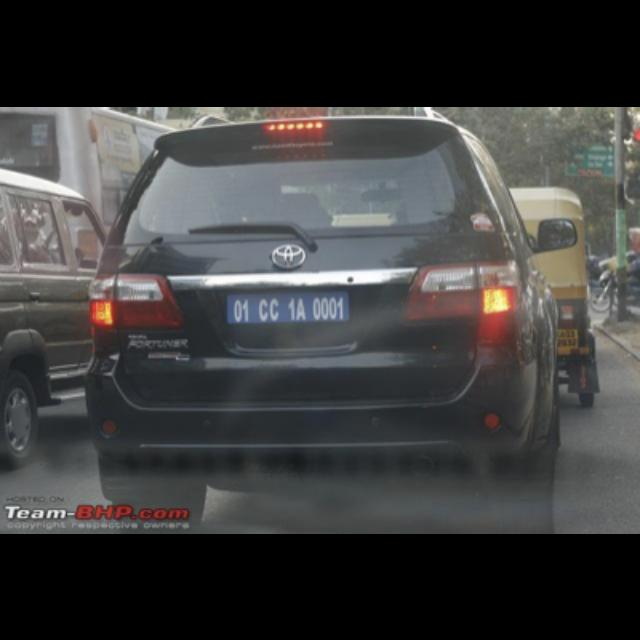carPlate: (228, 292, 348, 322)
